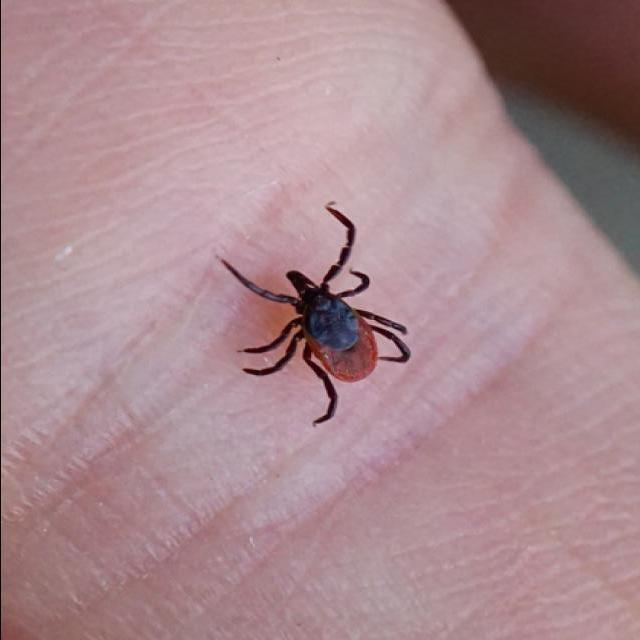Ixodes Ricinus-F: (223, 205, 408, 425)
